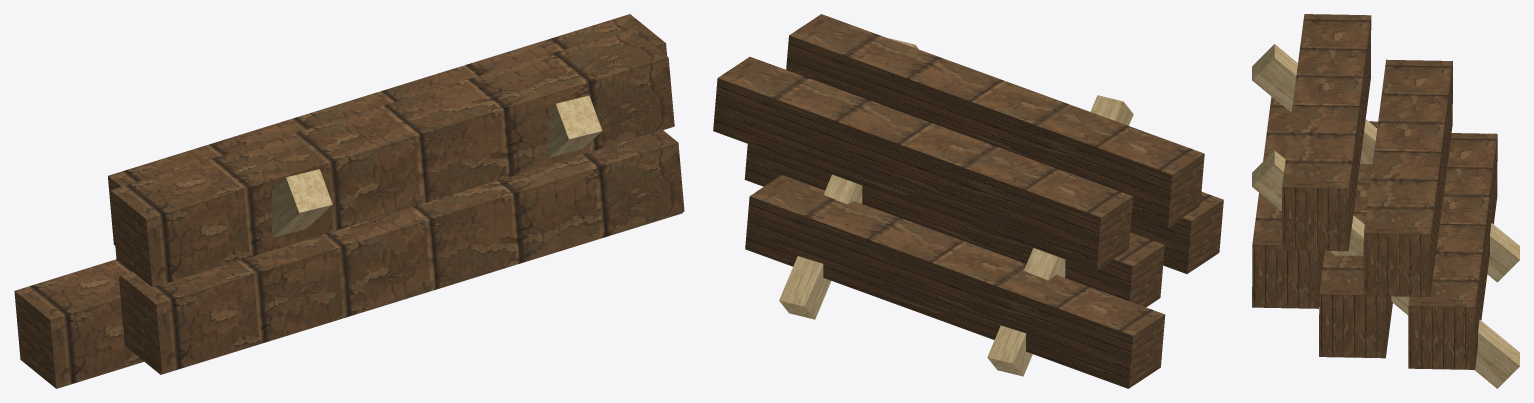
Rendered from ITM_WOOD_BUNDLE_001.obj.
The picture shows the model from 3 angles, left to right: view 1: azimuth 30°, elevation 25°; view 2: azimuth 150°, elevation 25°; view 3: azimuth 270°, elevation 25°; orthographic projection. The views are drawn at different scales.
Parts seen in each view (by area): view 1: ReadableLog_5, ReadableLog_3, ReadableLog_1, ReadableLog_4, FrontBinding, RearBinding, ReadableLog_2; view 2: ReadableLog_4, ReadableLog_1, ReadableLog_5, ReadableLog_2, ReadableLog_3, FrontBinding, RearBinding; view 3: ReadableLog_4, ReadableLog_5, ReadableLog_1, ReadableLog_2, ReadableLog_3, RearBinding, FrontBinding.
Boxes of the visible parts, <box> form: ReadableLog_5: <box>110,28,674,287</box>; ReadableLog_3: <box>120,129,684,373</box>; ReadableLog_1: <box>14,259,143,388</box>; ReadableLog_4: <box>108,14,666,245</box>; FrontBinding: <box>272,169,332,237</box>; RearBinding: <box>548,95,602,157</box>; ReadableLog_2: <box>118,212,682,374</box>; ReadableLog_4: <box>713,57,1133,270</box>; ReadableLog_1: <box>745,175,1165,388</box>; ReadableLog_5: <box>786,14,1204,227</box>; ReadableLog_2: <box>744,144,1164,307</box>; ReadableLog_3: <box>1130,192,1223,273</box>; FrontBinding: <box>987,95,1133,376</box>; RearBinding: <box>779,38,918,319</box>; ReadableLog_4: <box>1363,59,1452,296</box>; ReadableLog_5: <box>1281,14,1371,251</box>; ReadableLog_1: <box>1408,133,1497,369</box>; ReadableLog_2: <box>1319,121,1392,358</box>; ReadableLog_3: <box>1252,96,1324,308</box>; RearBinding: <box>1252,150,1519,388</box>; FrontBinding: <box>1252,44,1519,282</box>.
Size of the model in its own units: 0.7819 by 0.3615 by 0.3603.
2 materials, 2 textured.
